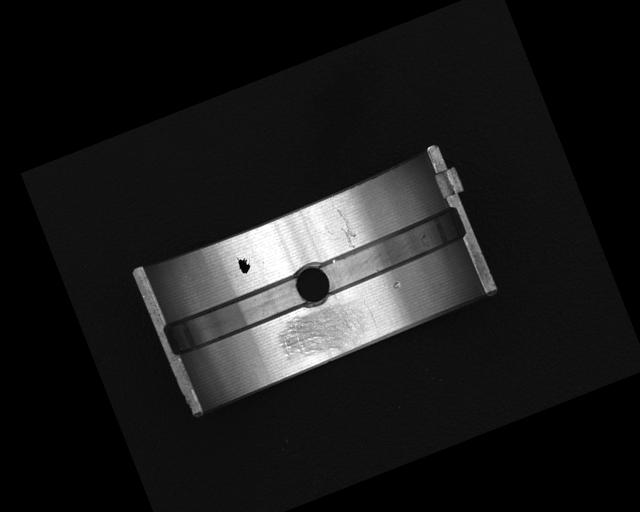blot: (233, 251, 254, 276)
bruise: (390, 279, 403, 291)
gap: (314, 204, 468, 298), (161, 272, 309, 358)
hole: (288, 257, 337, 311)
nick: (332, 204, 361, 250)
scratch: (271, 293, 375, 373)
